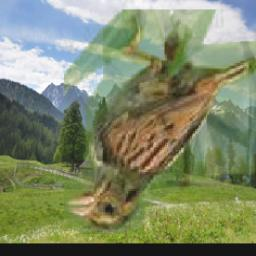Sparrow: (63, 9, 256, 234)
